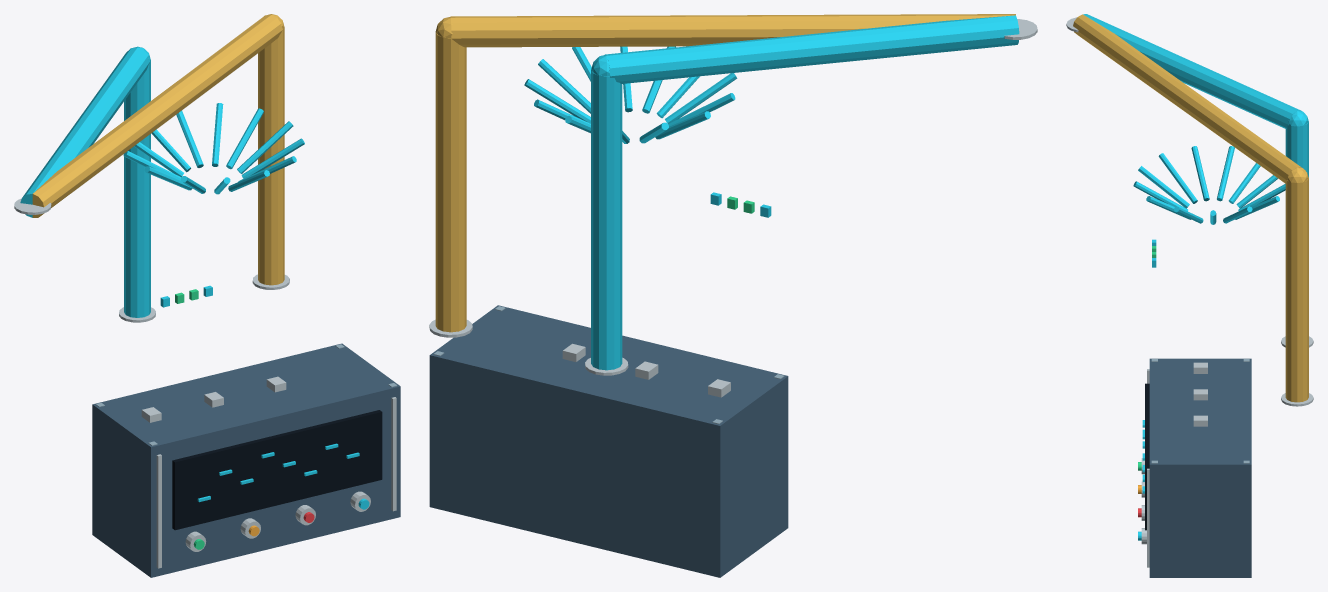
File: 35_L78_DualChannelLowKGasManifold.fbx
3 views of the same model, side by side, from view 1: azimuth 30°, elevation 25°; view 2: azimuth 150°, elevation 25°; view 3: azimuth 270°, elevation 25° (orthographic). The views are drawn at different scales.
Visible parts, largest first — view 1: DualChannelLowKGasManifold, DualChannelLowKGasManifold_Part_0038, DualChannelLowKGasManifold_Part_0050, DualChannelLowKGasManifold_Part_0039; view 2: DualChannelLowKGasManifold; view 3: DualChannelLowKGasManifold, DualChannelLowKGasManifold_Part_0042, DualChannelLowKGasManifold_Part_0043, DualChannelLowKGasManifold_Part_0044, DualChannelLowKGasManifold_Part_0045, DualChannelLowKGasManifold_Part_0041.
Part boxes in pixels (x1,y1,x2,y2): DualChannelLowKGasManifold: (14, 14, 400, 577); DualChannelLowKGasManifold_Part_0038: (237, 121, 293, 173); DualChannelLowKGasManifold_Part_0050: (226, 108, 263, 169); DualChannelLowKGasManifold_Part_0039: (241, 138, 304, 178); DualChannelLowKGasManifold: (429, 14, 1037, 577); DualChannelLowKGasManifold: (1066, 14, 1313, 577); DualChannelLowKGasManifold_Part_0042: (1138, 166, 1189, 208); DualChannelLowKGasManifold_Part_0043: (1158, 153, 1197, 203); DualChannelLowKGasManifold_Part_0044: (1191, 146, 1209, 201); DualChannelLowKGasManifold_Part_0045: (1217, 146, 1234, 201); DualChannelLowKGasManifold_Part_0041: (1133, 181, 1188, 211).
Size of the model in its own units: 237 by 242 by 138.
